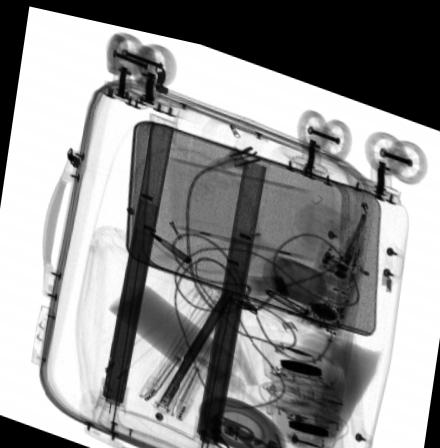Bullet: (148, 224, 192, 255)
